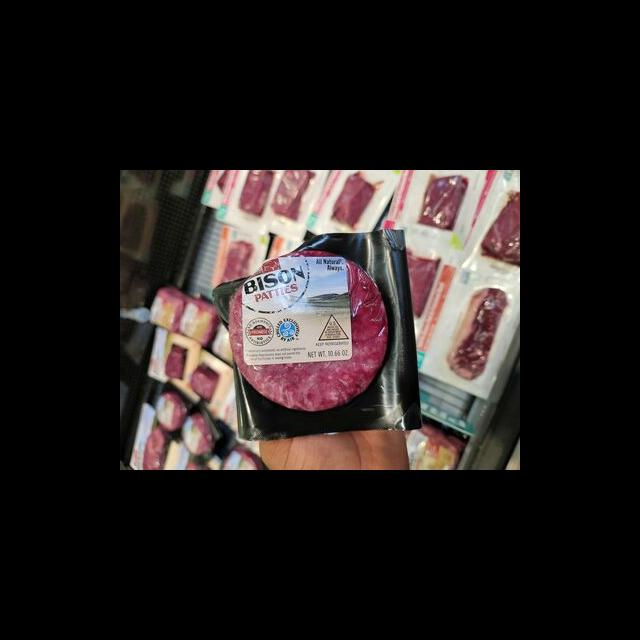beef: (228, 252, 386, 411), (448, 288, 508, 381), (419, 175, 468, 229), (482, 197, 520, 266)
